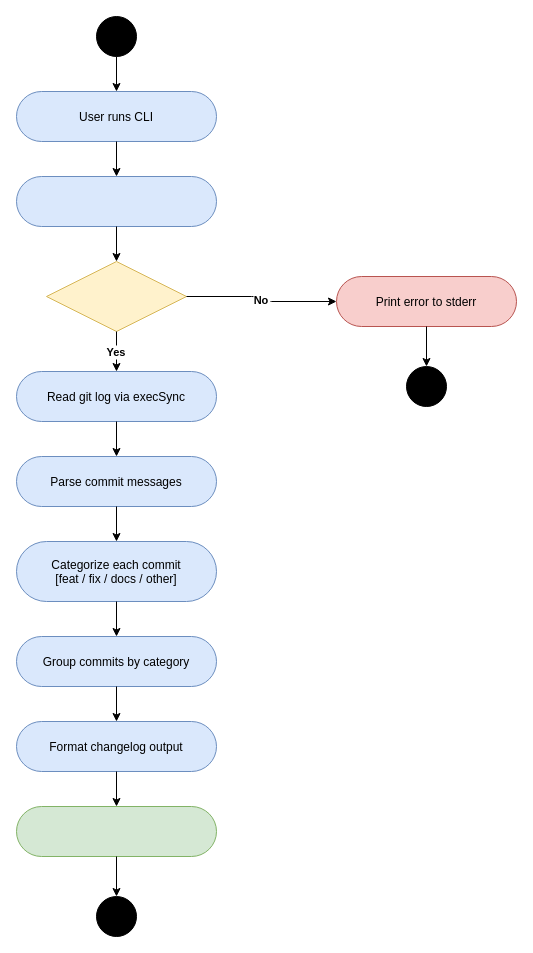
This 533x953 diagram has some shape labels left out. Here are the shapes that lost their labels. From the top down, the centre of each, then its label:
pixel 116 201: Validate repo path
pixel 116 296: Valid path?
pixel 116 831: Print to stdout
